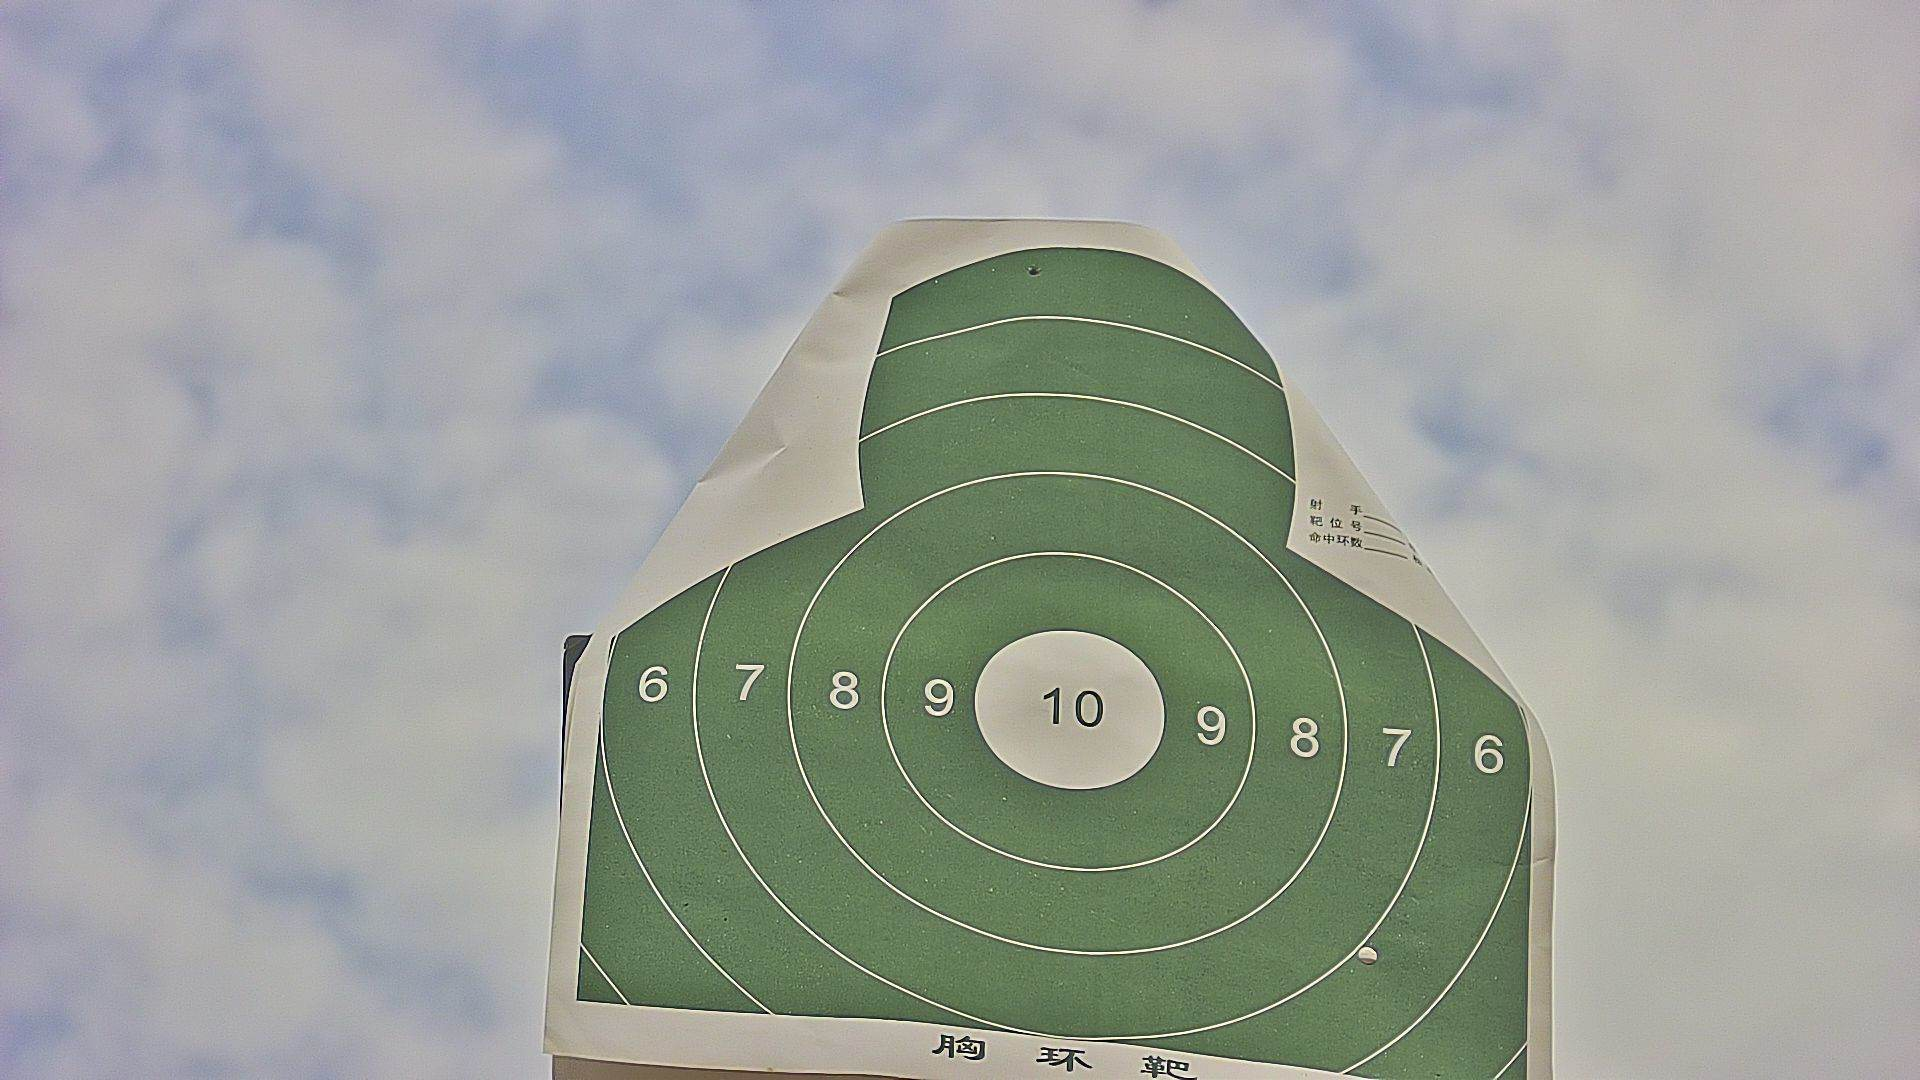hole: (1029, 262, 1038, 276)
kernel: (1059, 702, 1069, 709)
target: (567, 247, 1532, 1080)
ten: (971, 626, 1168, 791)
